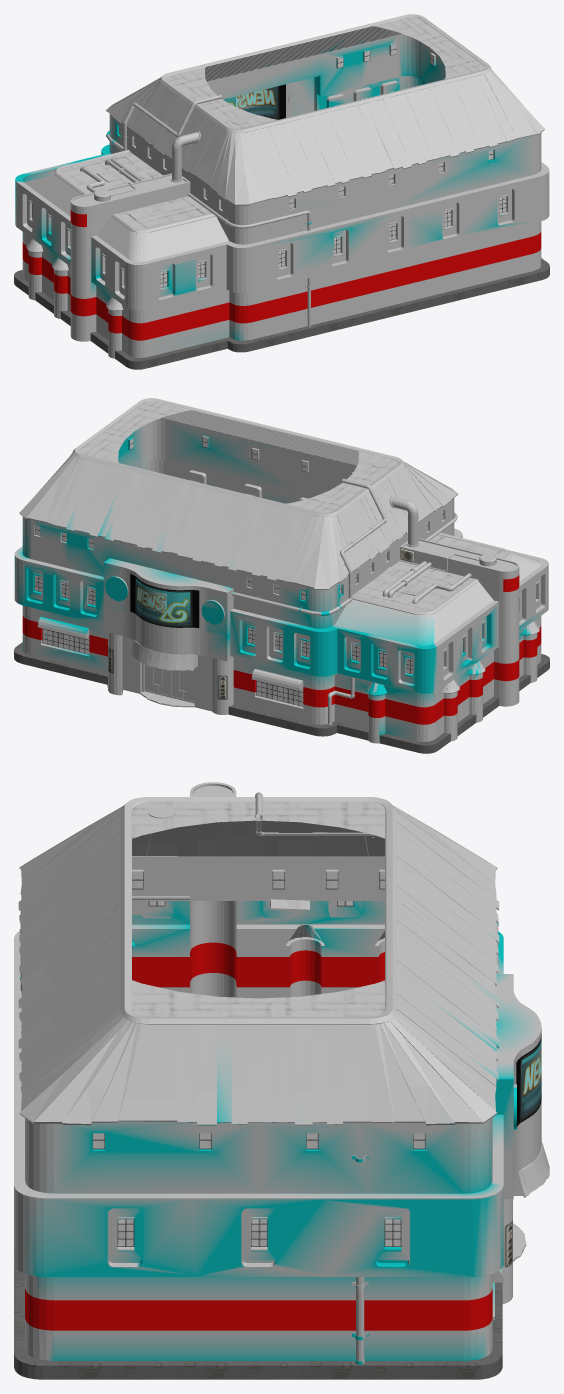
File: SM_ENV_KNVLLG_AreaD_Tower_A_Part01.mo.fbx
3 renders of one model, top to bottom at view 1: azimuth 30°, elevation 25°; view 2: azimuth 150°, elevation 25°; view 3: azimuth 270°, elevation 25°, orthographic. The views are drawn at different scales.
Visible parts, largest first — view 1: SM_ENV_KNVLLG_AreaD_Tower_A_Part01.mo; view 2: SM_ENV_KNVLLG_AreaD_Tower_A_Part01.mo; view 3: SM_ENV_KNVLLG_AreaD_Tower_A_Part01.mo.
Boxes of the visible parts, x1,y1,x2,y2 form: SM_ENV_KNVLLG_AreaD_Tower_A_Part01.mo: [14, 14, 549, 369]; SM_ENV_KNVLLG_AreaD_Tower_A_Part01.mo: [14, 398, 549, 753]; SM_ENV_KNVLLG_AreaD_Tower_A_Part01.mo: [14, 782, 549, 1379].
Bounding box in the file's own units: 38.54 × 17.34 × 24.08.
